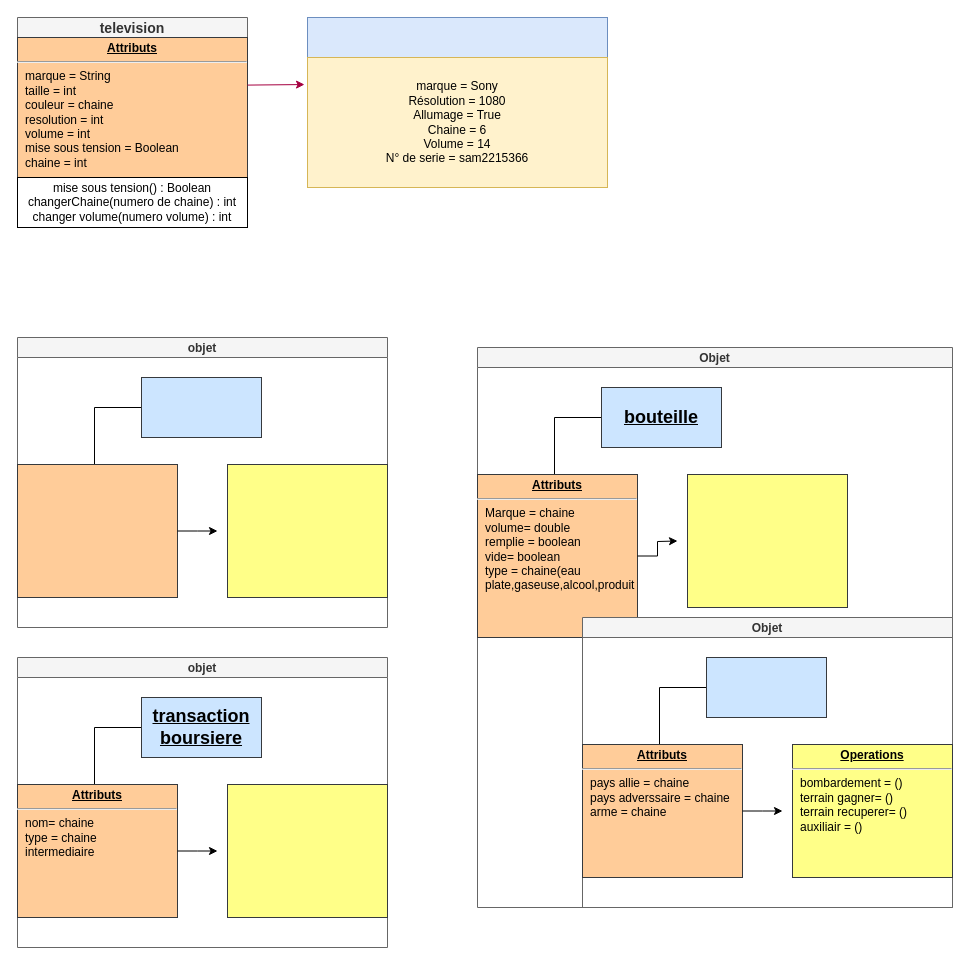
Some shapes in this 970 by 965 pixel diagram are drawn without their labels. The shapes that lost their labels are listed below. From the top down, each one's centre as x and y in pixels, then its label:
At (457,37): "television du salon : Television".
At (201,407): "qualite du compilateur".
At (97,531): "Attributs nom= chaine langage prog = chaine memoir=int vitesse = int".
At (307,531): "Operations Allumer = () Changer de chaine = () antenne = () auxiliair = ()".
At (767,541): "Operations ouvrir= () fermer = () vider= () remplir=() melanger=()".
At (766,687): "la deuxieme gerre mondial".
At (307,851): "Operations achat= () vente = () = () = ()".
